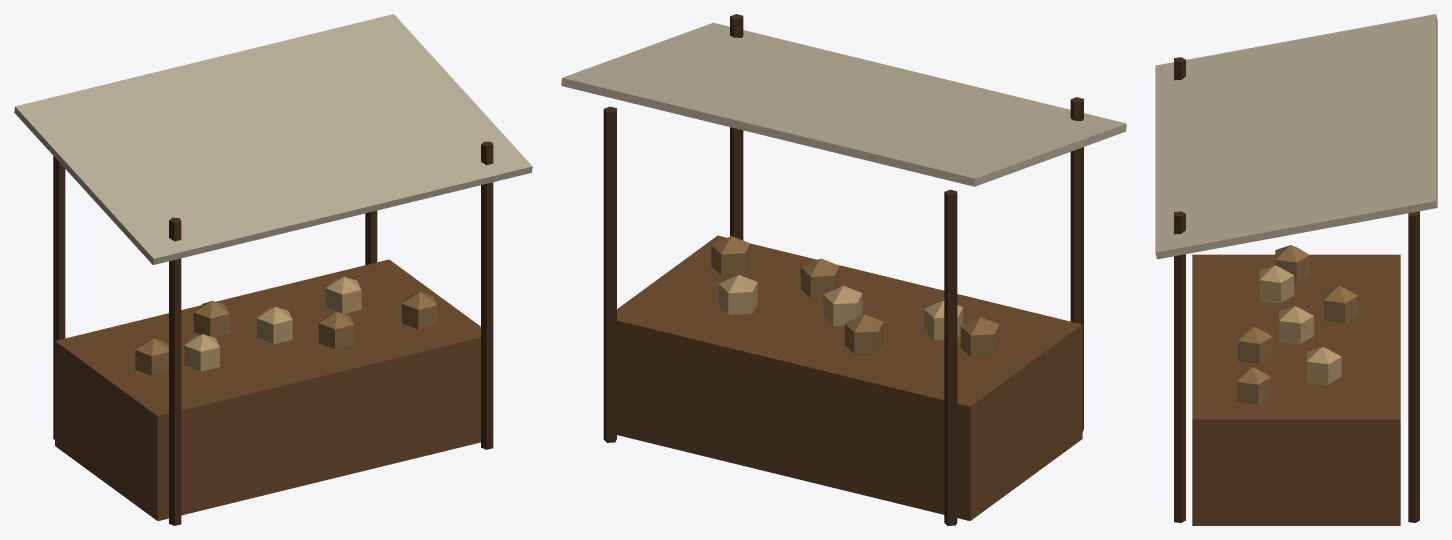
Rendered from market_stall.glb.
The picture shows the model from 3 angles, left to right: view 1: azimuth 30°, elevation 25°; view 2: azimuth 150°, elevation 25°; view 3: azimuth 270°, elevation 25°; orthographic projection. The views are drawn at different scales.
Visible parts, largest first — view 1: market_stall; view 2: market_stall; view 3: market_stall.
Boxes of the visible parts, x1,y1,x2,y2 form: market_stall: (14,14,532,525); market_stall: (561,14,1126,525); market_stall: (1155,14,1437,525).
Size of the model in its own units: 3.4 by 2.85 by 2.17.
